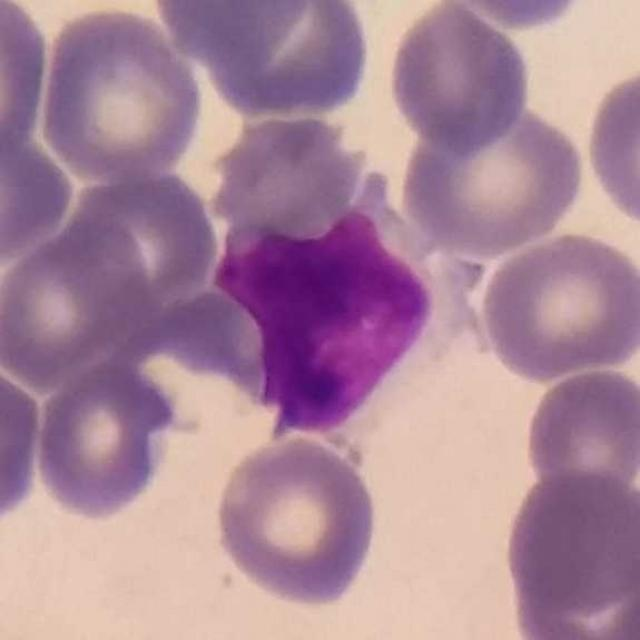Lymphocyte: (190, 176, 488, 446)
RBC: (33, 1, 207, 185), (208, 431, 383, 610), (394, 102, 590, 258), (0, 216, 154, 391), (475, 227, 640, 383), (30, 358, 183, 524), (58, 165, 222, 314), (500, 464, 640, 633), (384, 0, 533, 152), (191, 0, 376, 122), (205, 110, 368, 243), (520, 363, 640, 511), (0, 112, 78, 268), (148, 0, 314, 67), (581, 60, 640, 236), (0, 0, 55, 166), (0, 359, 47, 533), (435, 0, 594, 33)
